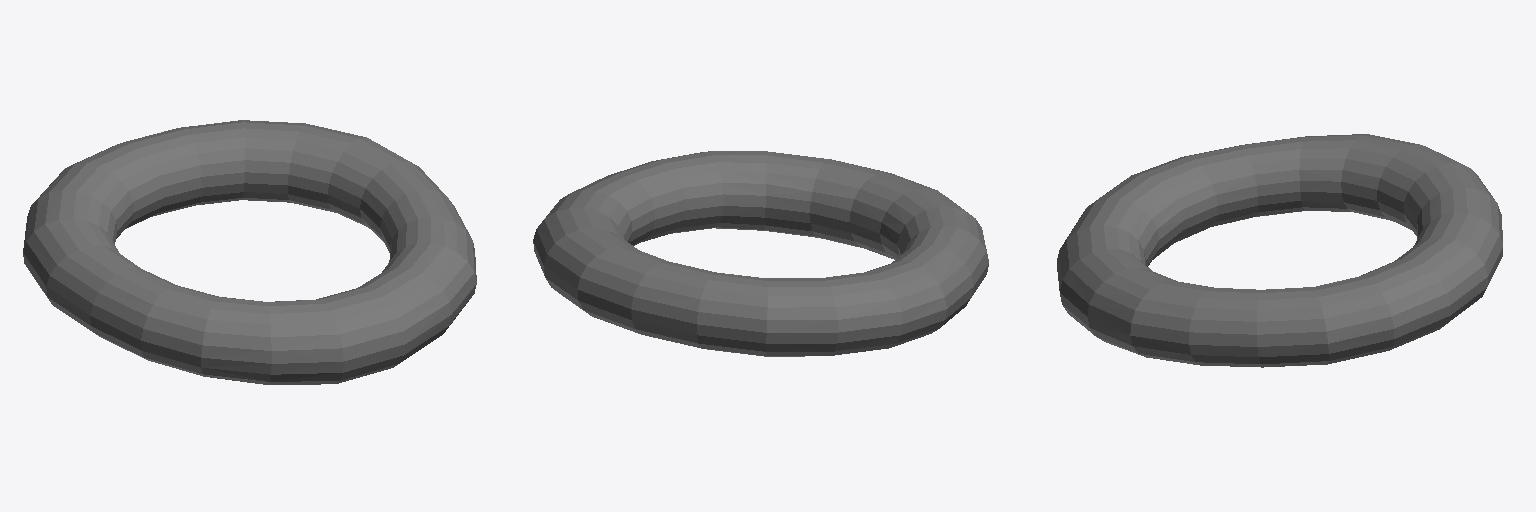
Rendered from LowPoly_Bibliotecaria_Corda.obj.
The picture shows the model from 3 angles: view 1: azimuth 30°, elevation 25°; view 2: azimuth 150°, elevation 25°; view 3: azimuth 270°, elevation 25°; orthographic projection.
Parts seen in each view (by area): view 1: LowPoly_Bibliotecaria_Corda; view 2: LowPoly_Bibliotecaria_Corda; view 3: LowPoly_Bibliotecaria_Corda.
Part boxes in pixels (bbox=[...]): LowPoly_Bibliotecaria_Corda: bbox=[23, 120, 476, 384]; LowPoly_Bibliotecaria_Corda: bbox=[533, 151, 988, 356]; LowPoly_Bibliotecaria_Corda: bbox=[1057, 134, 1502, 367].
Bounding box in the file's own units: 21.22 × 5.48 × 21.14.